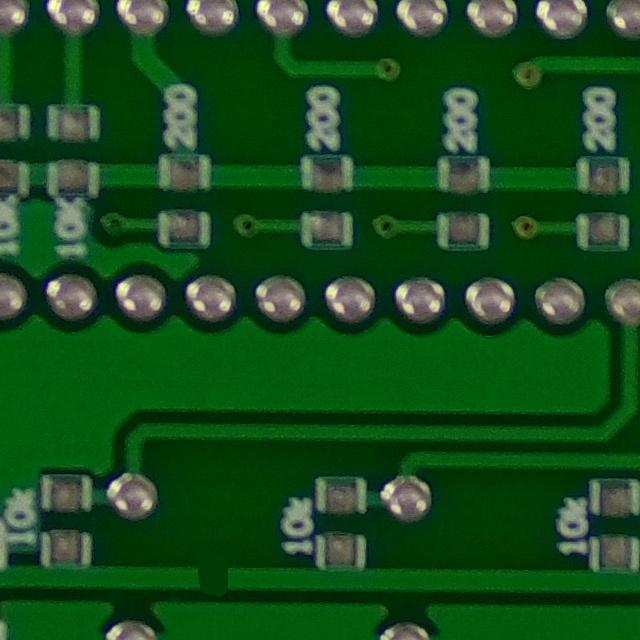open_circuit: (183, 548, 240, 601)
